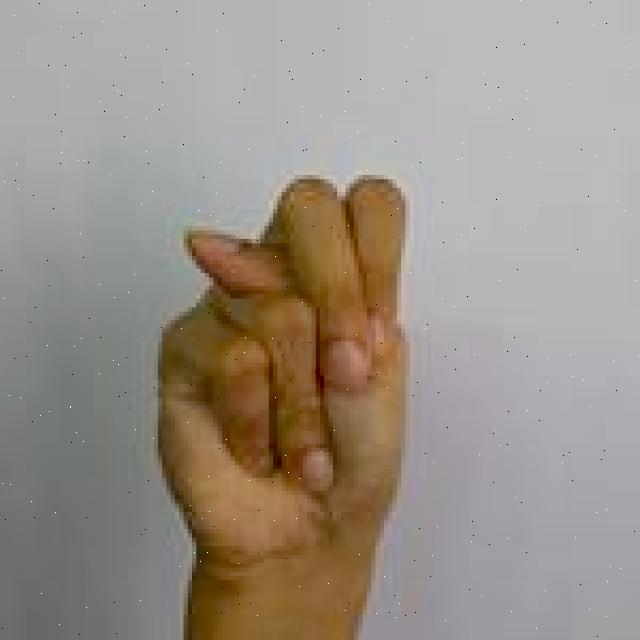N: (151, 164, 426, 640)
